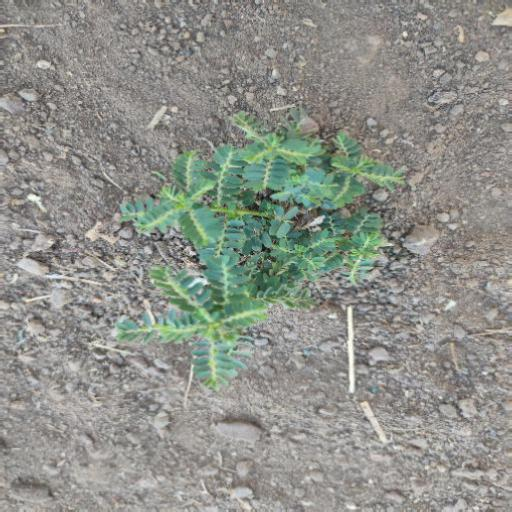weed: (116, 126, 406, 374)
